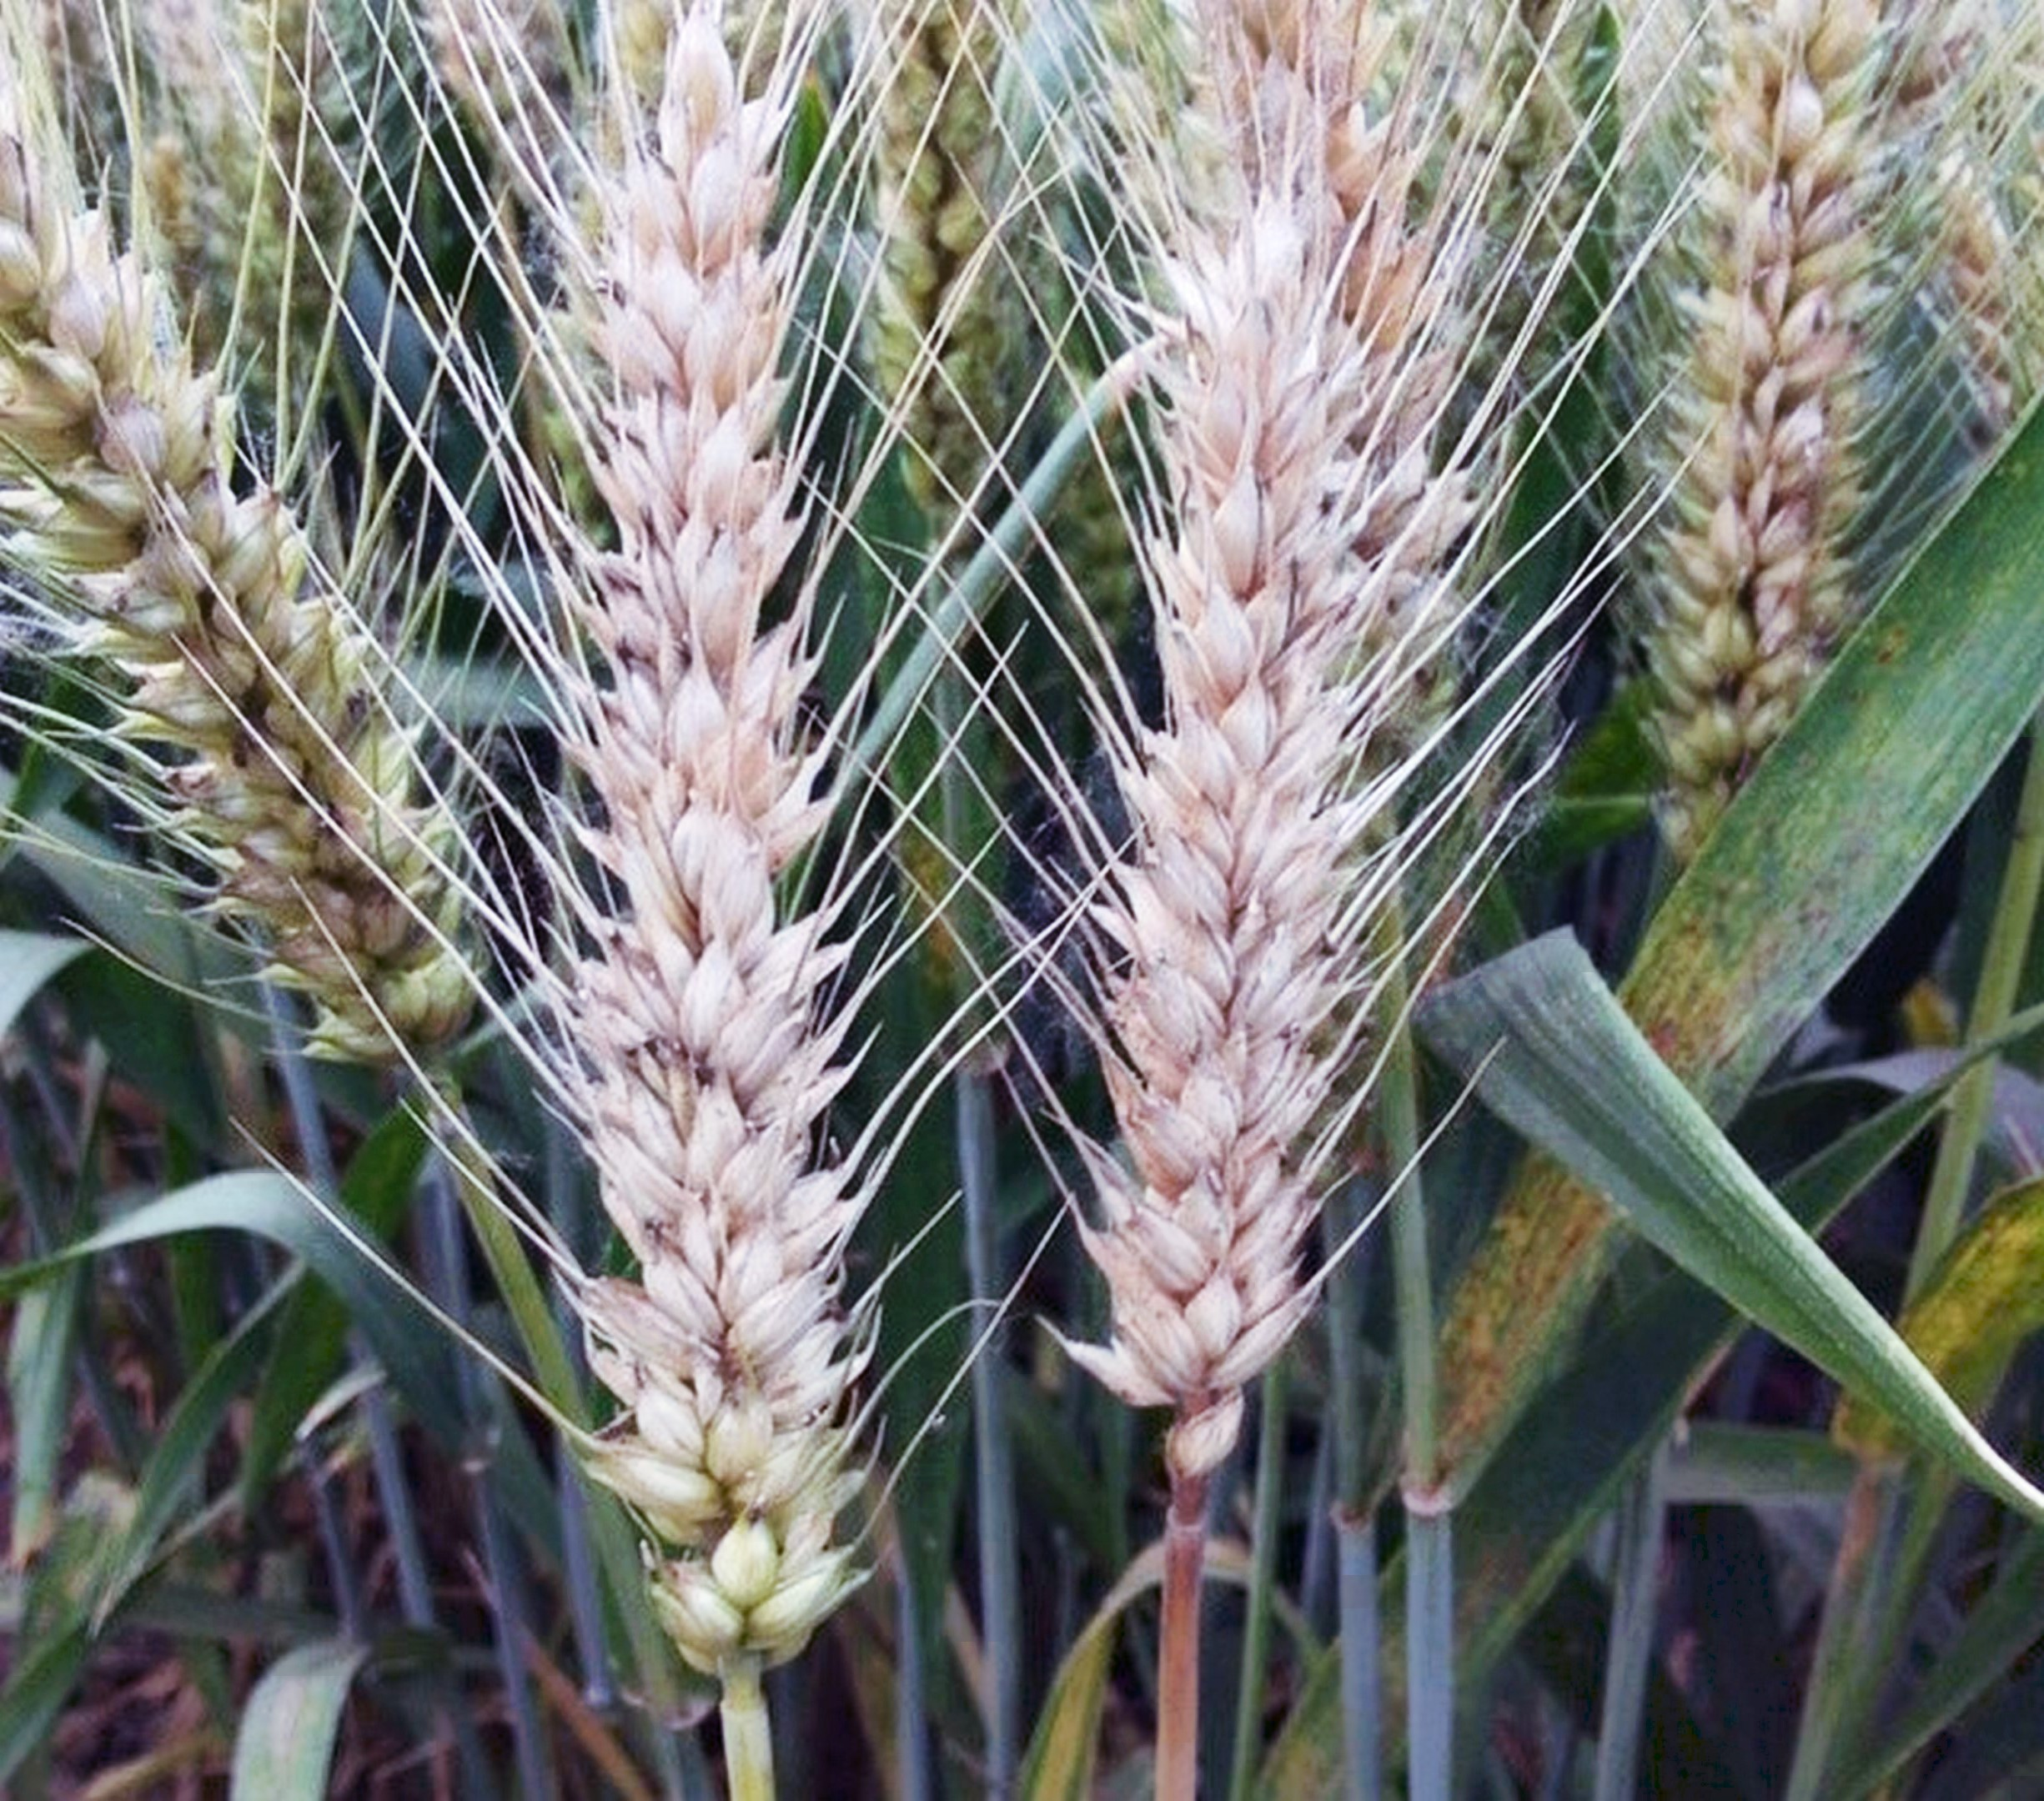Wheat scab: (497, 85, 899, 1662), (26, 176, 483, 1097), (1081, 118, 1361, 1432), (1630, 3, 1889, 833)
